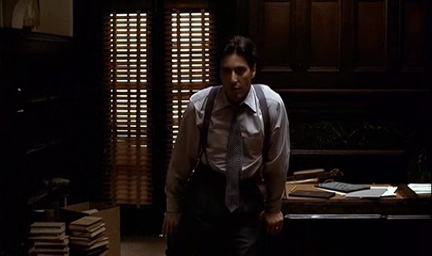face: (219, 55, 250, 101)
mls: (1, 1, 432, 256)
person: (163, 36, 290, 256)
